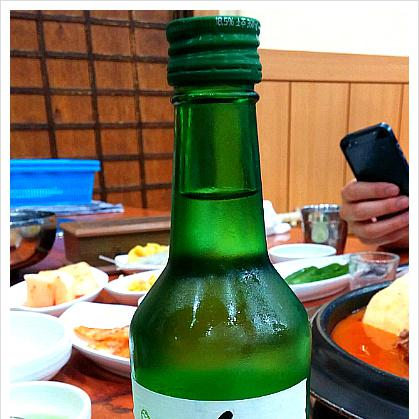soju: (127, 14, 314, 418)
